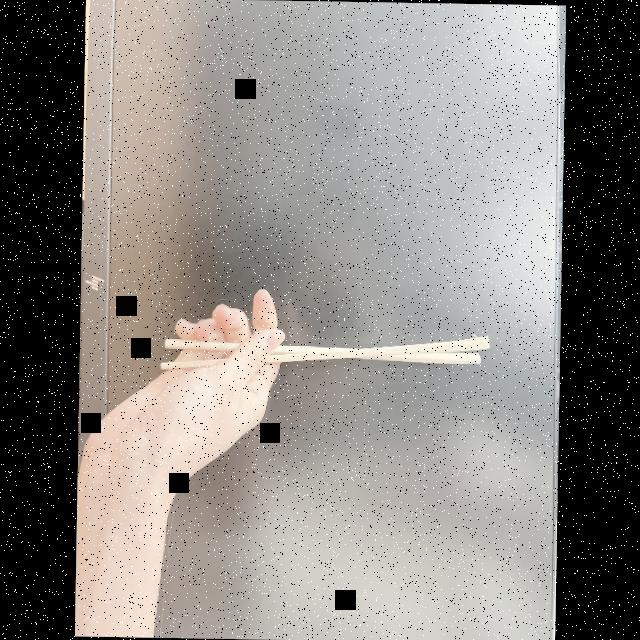stick: (160, 300, 491, 380)
